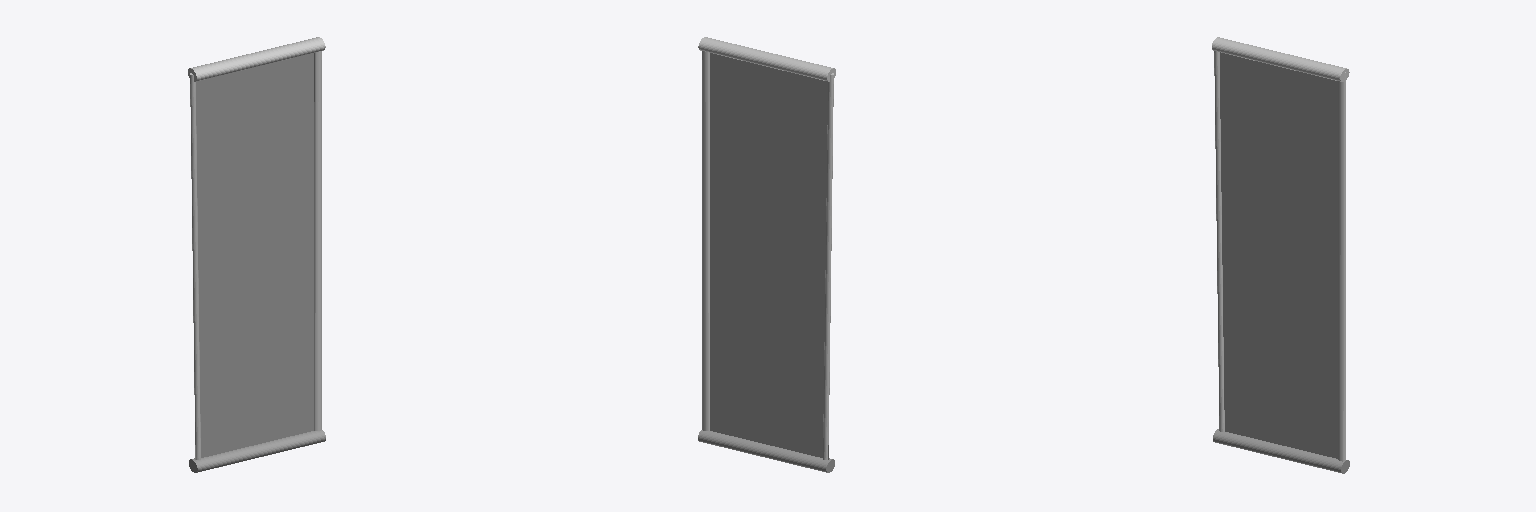
File: Runner.obj
3 views of the same model, side by side, from view 1: azimuth 30°, elevation 25°; view 2: azimuth 150°, elevation 25°; view 3: azimuth 330°, elevation 25° (orthographic).
Parts seen in each view (by area): view 1: Plane, Cylinder.002, Cylinder.003, Cylinder.001, Cylinder; view 2: Plane, Cylinder.002, Cylinder.003, Cylinder.001, Cylinder; view 3: Plane, Cylinder.002, Cylinder.003, Cylinder.001, Cylinder.
Part boxes in pixels (x1,y1,x2,y2): Plane: (195,53,313,459); Cylinder.002: (314,51,321,430); Cylinder.003: (190,73,200,459); Cylinder.001: (188,37,325,81); Cylinder: (189,430,325,472); Plane: (710,53,828,459); Cylinder.002: (702,51,709,430); Cylinder.003: (823,73,833,459); Cylinder.001: (698,37,835,81); Cylinder: (698,430,834,472); Plane: (1220,52,1337,458); Cylinder.002: (1338,72,1345,461); Cylinder.003: (1214,51,1224,431); Cylinder.001: (1212,37,1349,81); Cylinder: (1213,429,1349,473).
Size of the model in its own units: 2.84 by 8.35 by 0.343.